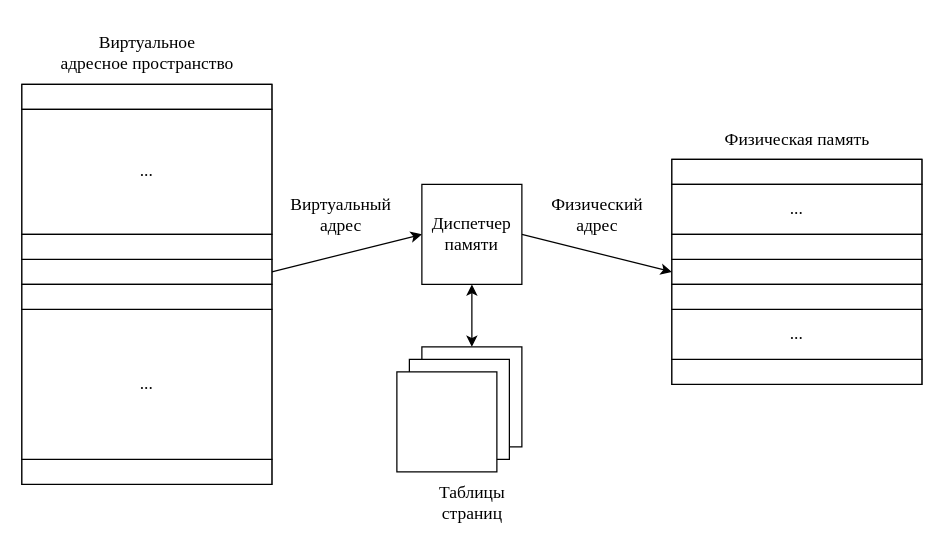
This 944x555 diagram has some shape labels left out. Each missing label, with the box of its shape:
Виртуальная страница: (21, 258, 272, 284)
Физическая страница: (671, 258, 922, 284)
